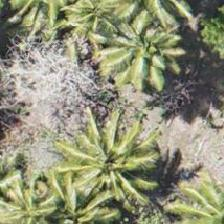coconut_tree: (63, 129, 153, 219), (89, 17, 179, 107)
